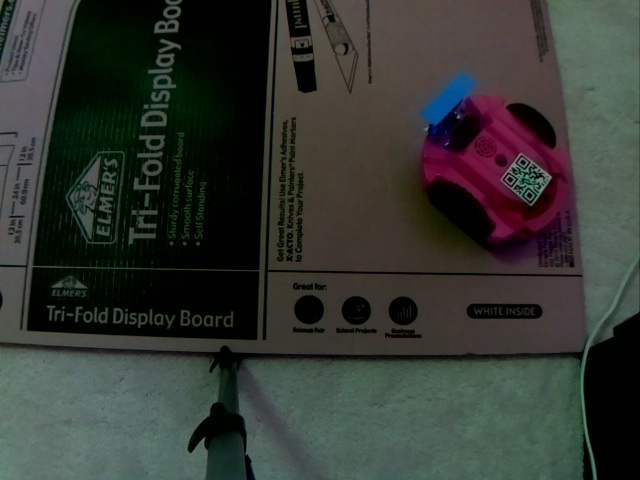chassis: (411, 65, 575, 251)
qr: (496, 149, 555, 208)
